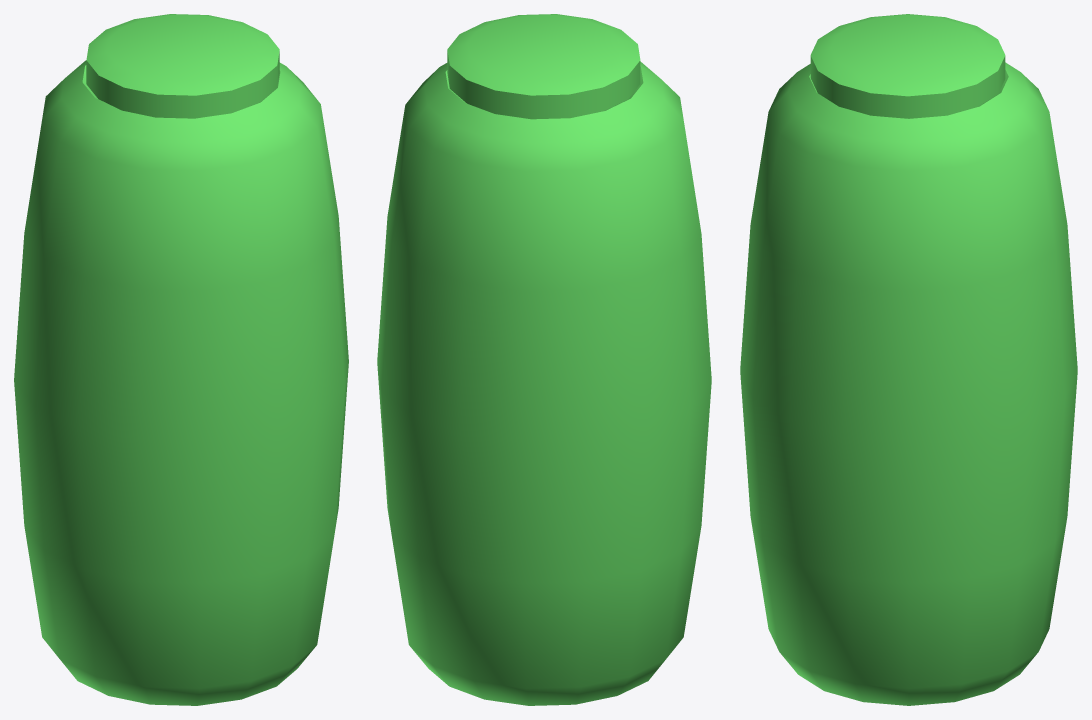
Rendered from S_Jars_2.fbx.
3 renders of one model, left to right at view 1: azimuth 30°, elevation 25°; view 2: azimuth 150°, elevation 25°; view 3: azimuth 270°, elevation 25°, orthographic.
Visible parts, largest first — view 1: Bocal_2_low, Bocal_2_low.001; view 2: Bocal_2_low, Bocal_2_low.001; view 3: Bocal_2_low, Bocal_2_low.001.
Part boxes in pixels (x1,y1,x2,y2): Bocal_2_low: (14, 60, 348, 705); Bocal_2_low.001: (86, 14, 279, 118); Bocal_2_low: (377, 61, 711, 705); Bocal_2_low.001: (447, 14, 640, 119); Bocal_2_low: (740, 62, 1077, 705); Bocal_2_low.001: (810, 14, 1005, 118).
Size of the model in its own units: 0.1122 by 0.2259 by 0.1122.
